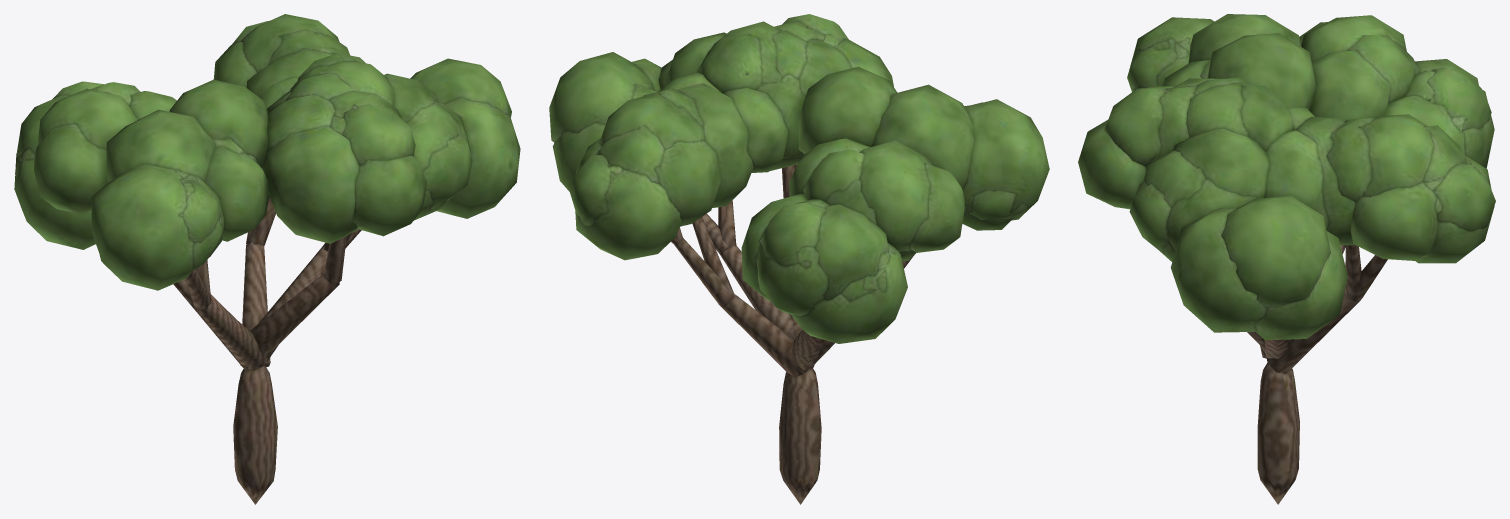
The model's file is oak.glb.
3 views of the same model, side by side, from view 1: azimuth 30°, elevation 25°; view 2: azimuth 150°, elevation 25°; view 3: azimuth 270°, elevation 25° (orthographic). The views are drawn at different scales.
Parts seen in each view (by area): view 1: oak; view 2: oak; view 3: oak.
Part boxes in pixels (x1,y1,x2,y2): oak: [14, 14, 520, 504]; oak: [549, 14, 1049, 504]; oak: [1078, 14, 1495, 504].
Bounding box in the file's own units: 8.94 × 8.57 × 7.15.
Materials: 2 (2 with a texture image).
